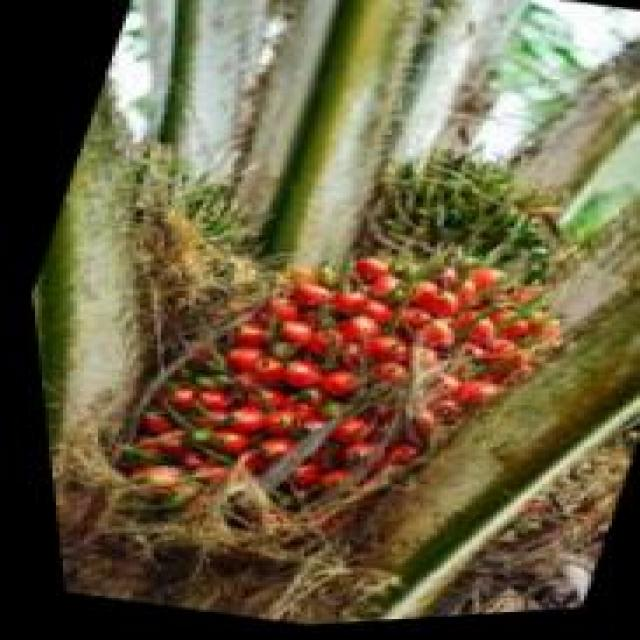Ripefruit: (72, 210, 582, 580)
